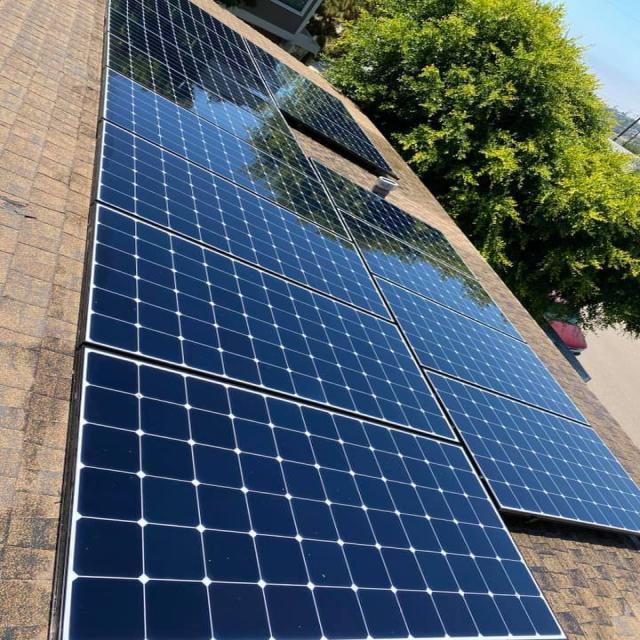clean-solar-panel: (60, 0, 635, 640)
